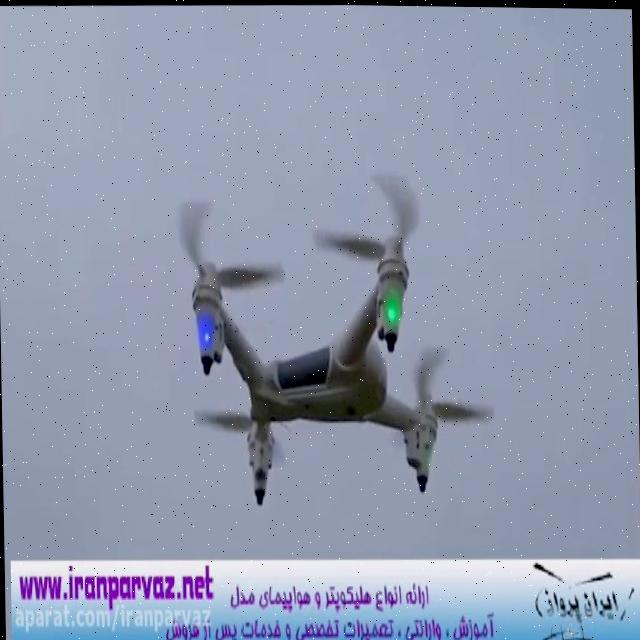drone: (167, 153, 502, 513)
